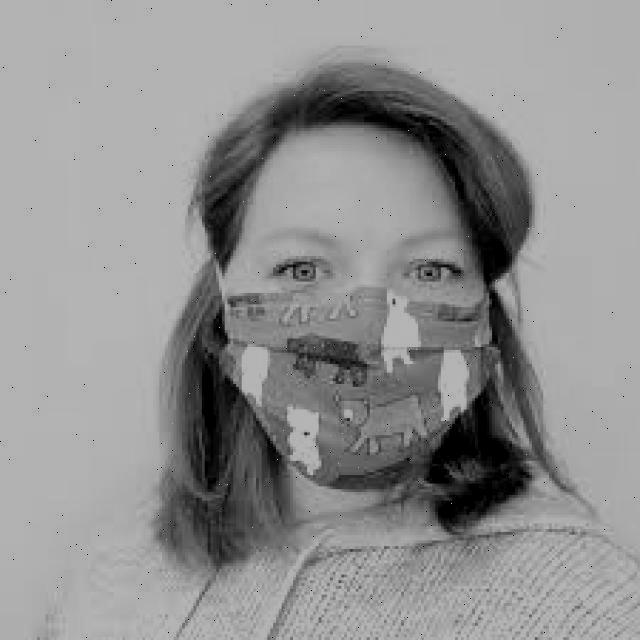fake: (211, 285, 504, 519)
real: (226, 123, 488, 505)
